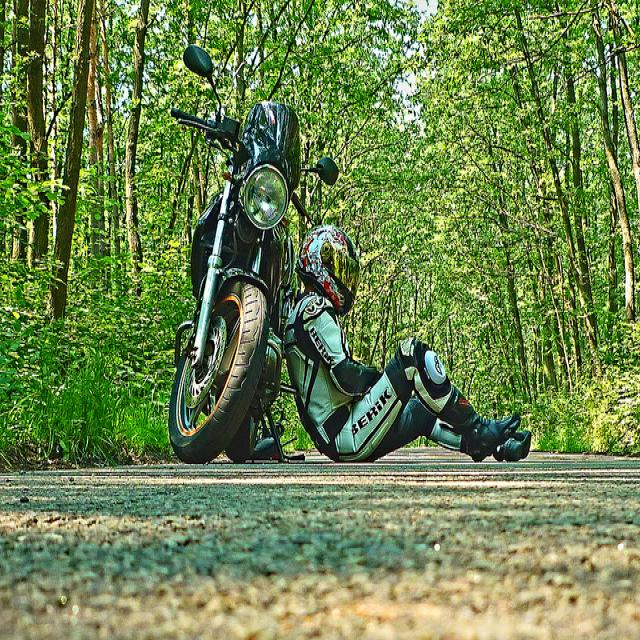motor: (163, 42, 340, 467)
